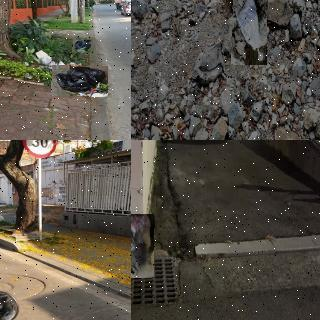Garbage: (232, 0, 267, 65), (52, 66, 108, 96), (131, 213, 154, 277), (72, 36, 92, 52)
